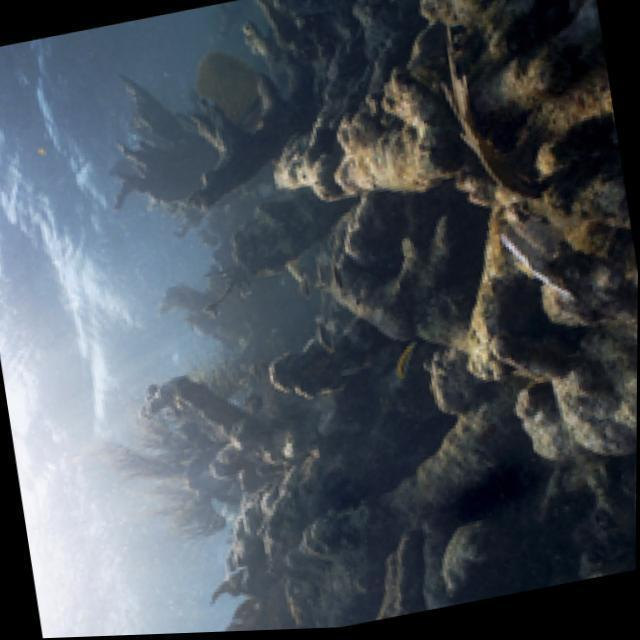Dead Coral: (318, 166, 639, 621), (119, 336, 376, 636), (216, 29, 508, 278)
